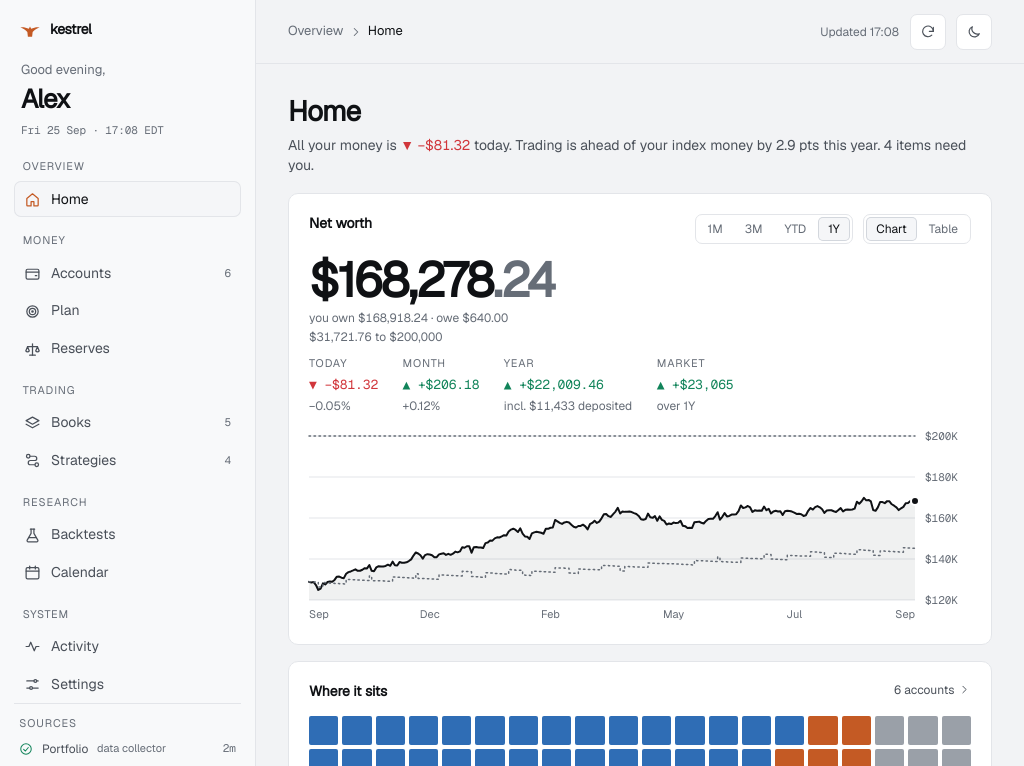
Reserves › opens Reserves from the sidebar
Click the link "Reserves".
click(67, 348)  # box left=24, top=339, right=110, bottom=358
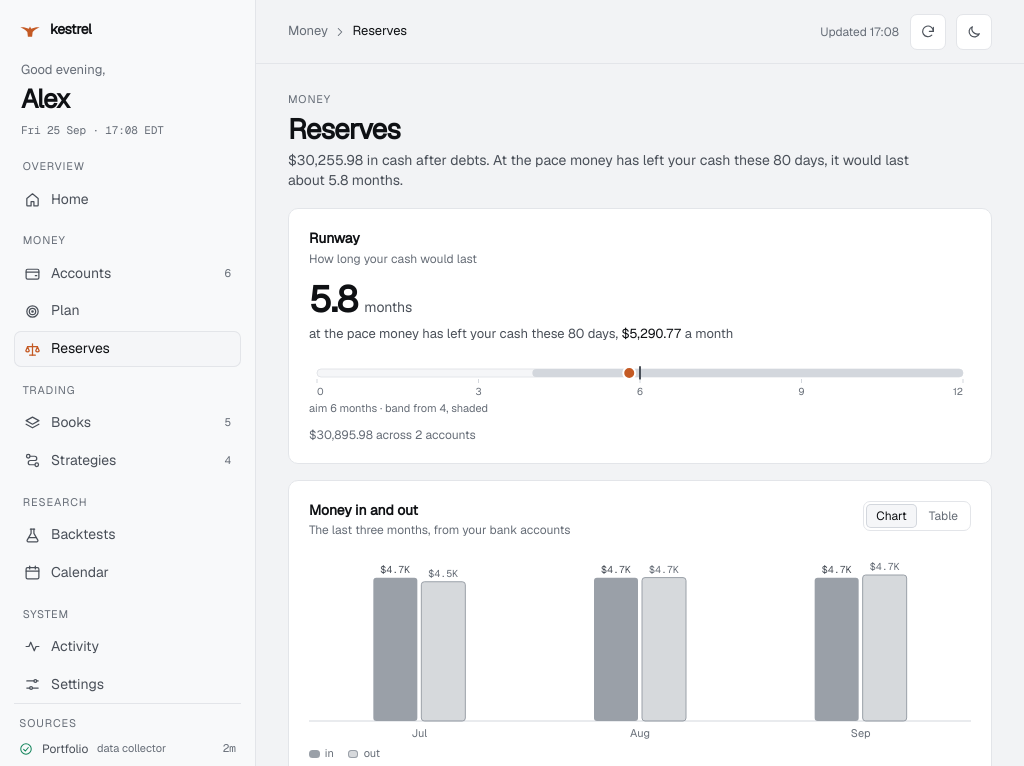
Result: the heading "Reserves" is shown at left=288, top=111, right=400, bottom=147
